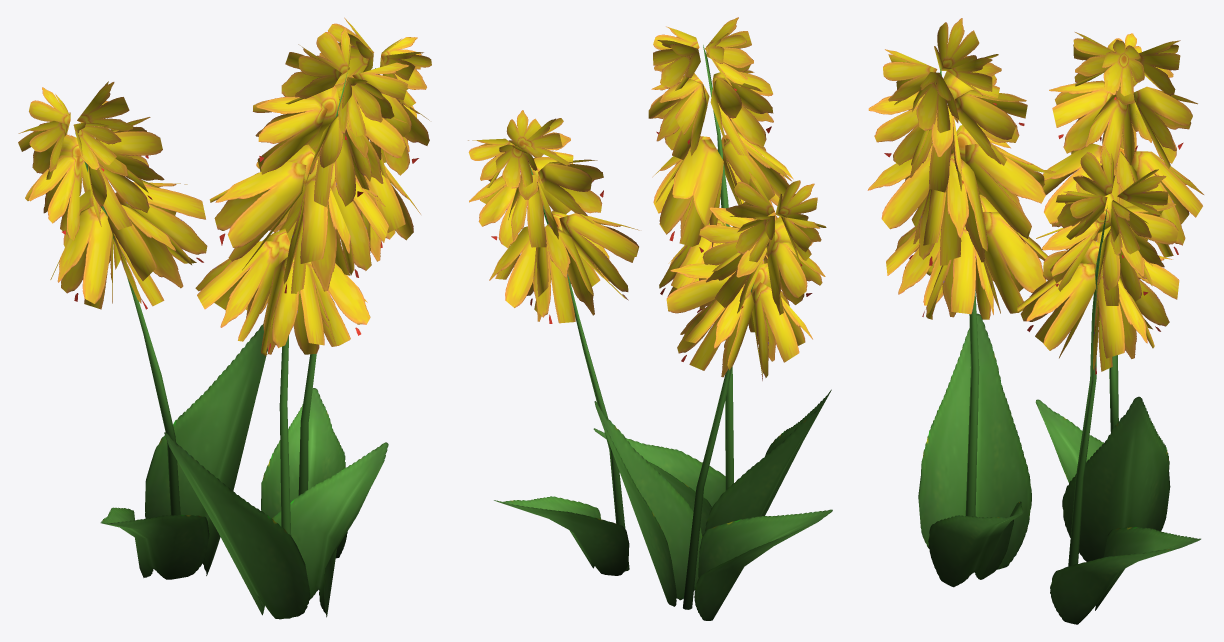
Rendered from flower2.glb.
3 views of the same model, side by side, from view 1: azimuth 30°, elevation 25°; view 2: azimuth 150°, elevation 25°; view 3: azimuth 270°, elevation 25° (orthographic). The views are drawn at different scales.
Visible parts, largest first — view 1: Flower_4_Group; view 2: Flower_4_Group; view 3: Flower_4_Group.
Boxes of the visible parts, x1,y1,x2,y2 form: Flower_4_Group: [18, 17, 431, 619]; Flower_4_Group: [468, 17, 832, 620]; Flower_4_Group: [867, 18, 1203, 624].
Size of the model in its own units: 1.78 by 2.49 by 1.37.
2 materials, 2 textured.
